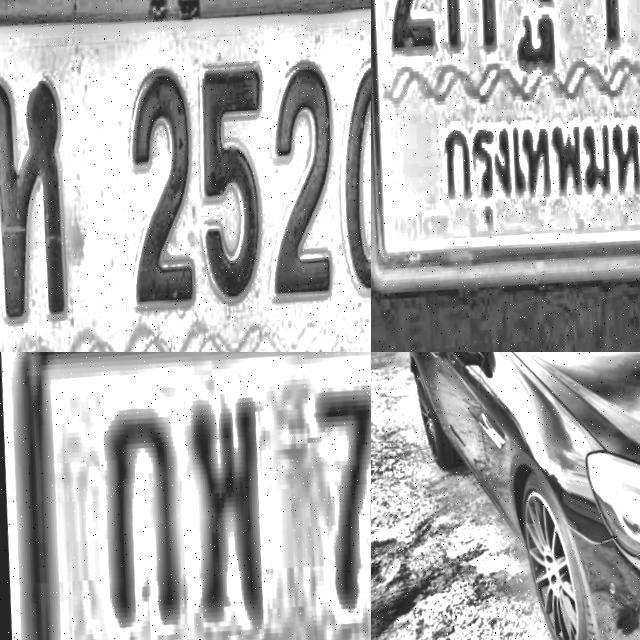license-plate: (0, 0, 371, 352), (0, 352, 371, 640), (371, 0, 640, 350)
